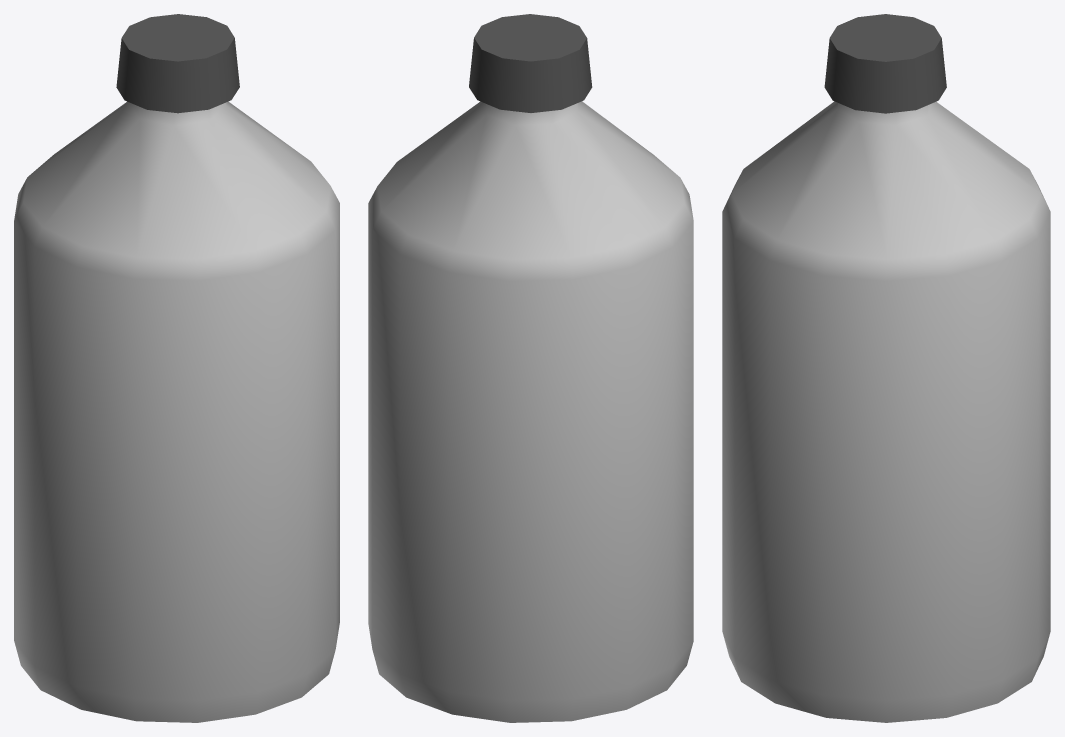
File: SM_Bottle_05.fbx
The picture shows the model from 3 angles, left to right: view 1: azimuth 30°, elevation 25°; view 2: azimuth 150°, elevation 25°; view 3: azimuth 270°, elevation 25°; orthographic projection.
Visible parts, largest first — view 1: SM_Bottle_05; view 2: SM_Bottle_05; view 3: SM_Bottle_05.
Boxes of the visible parts, box(x1,y1,x2,y2) form: SM_Bottle_05: box(14, 14, 339, 722); SM_Bottle_05: box(368, 14, 693, 722); SM_Bottle_05: box(722, 14, 1050, 722).
Bounding box in the file's own units: 12.93 × 26.87 × 12.93.
